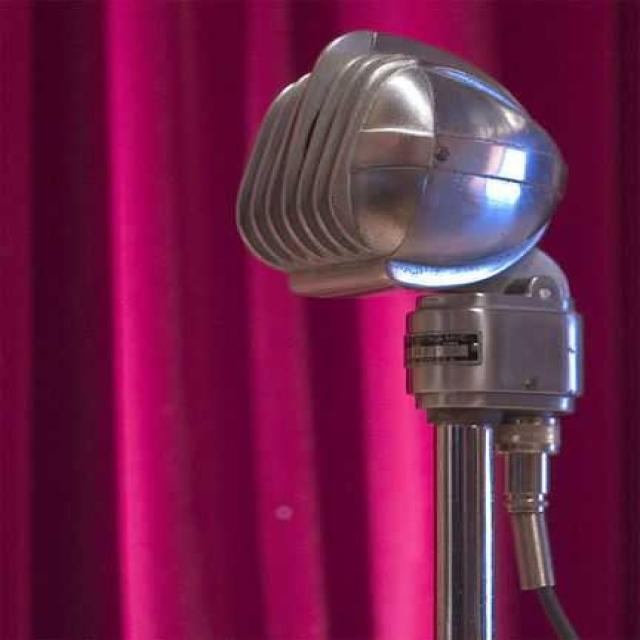microphone: (233, 27, 594, 637)
